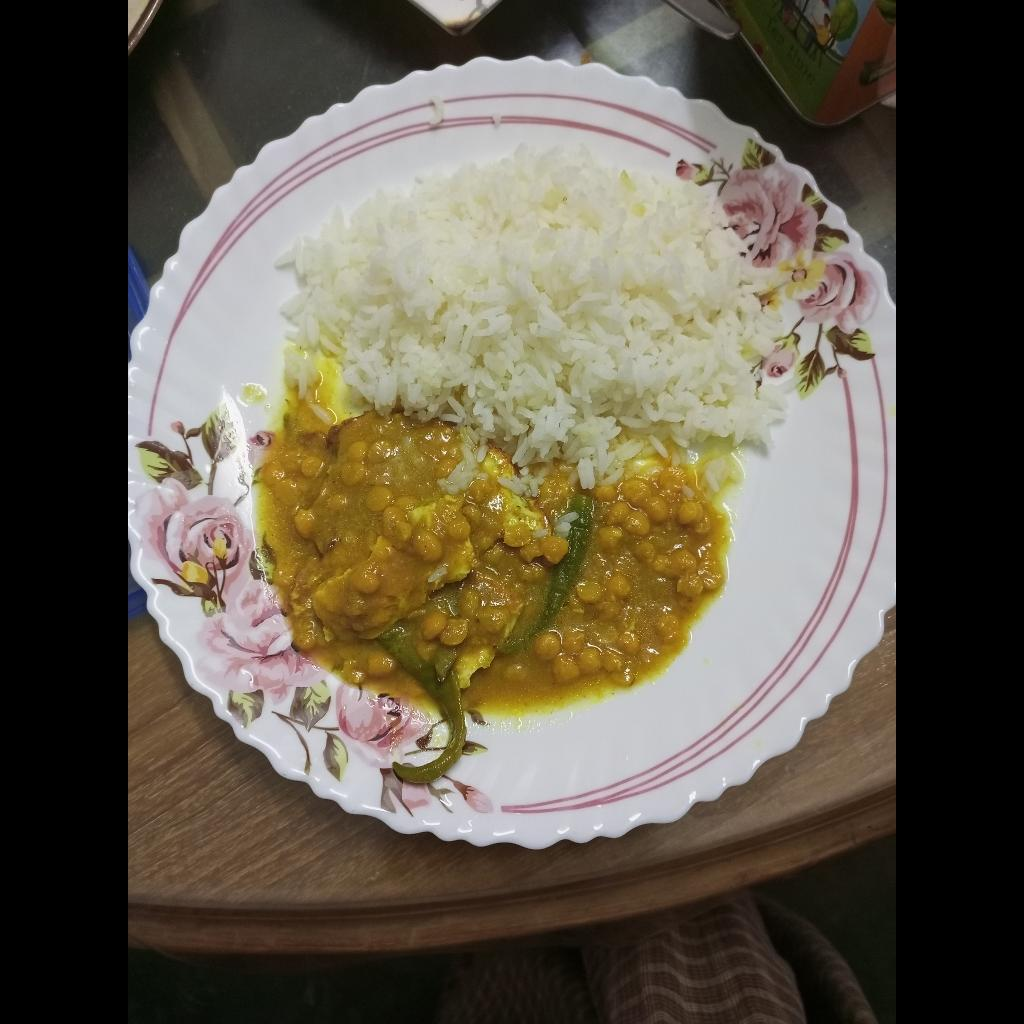daal: (246, 394, 576, 715), (488, 463, 740, 717)
egg: (306, 458, 539, 645)
rice: (271, 134, 783, 500)
